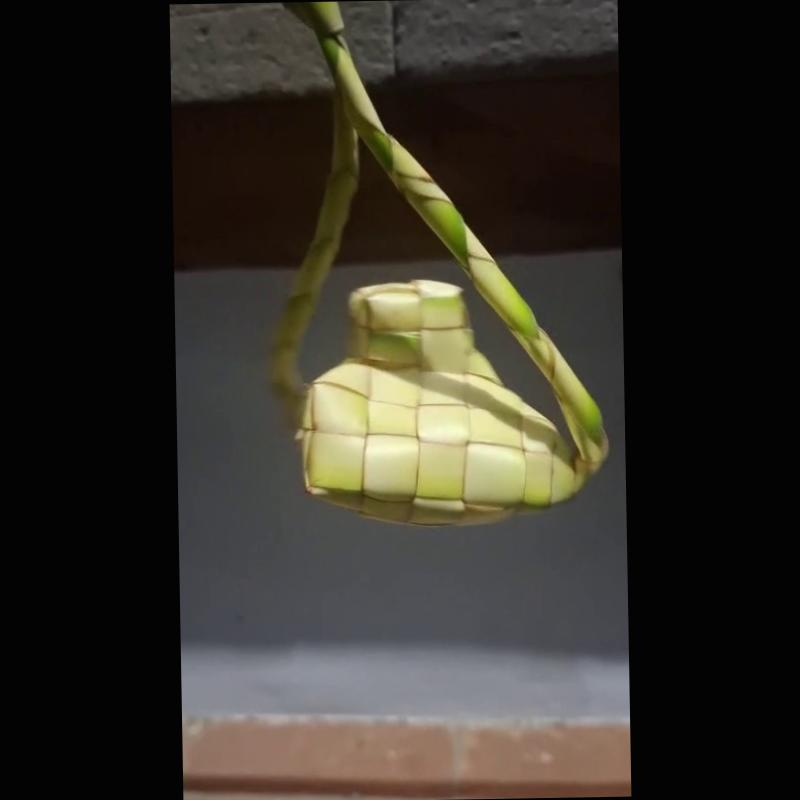Tipat Gong: (265, 1, 612, 539)
